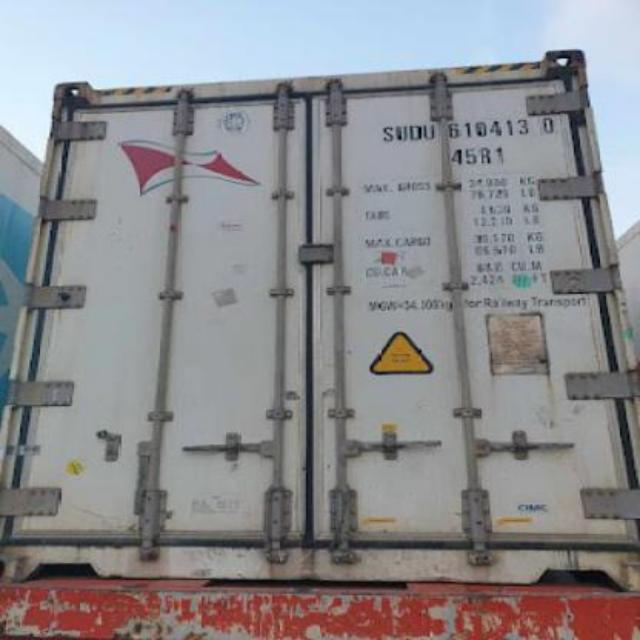0: (474, 120, 490, 140), (540, 117, 558, 133)
1: (462, 122, 474, 140), (504, 119, 516, 137)
3: (516, 117, 530, 137)
4: (491, 118, 504, 138)
6: (446, 122, 462, 140)
D: (408, 122, 422, 142)
S: (381, 126, 394, 142)
U: (394, 124, 410, 142), (422, 124, 438, 140)
